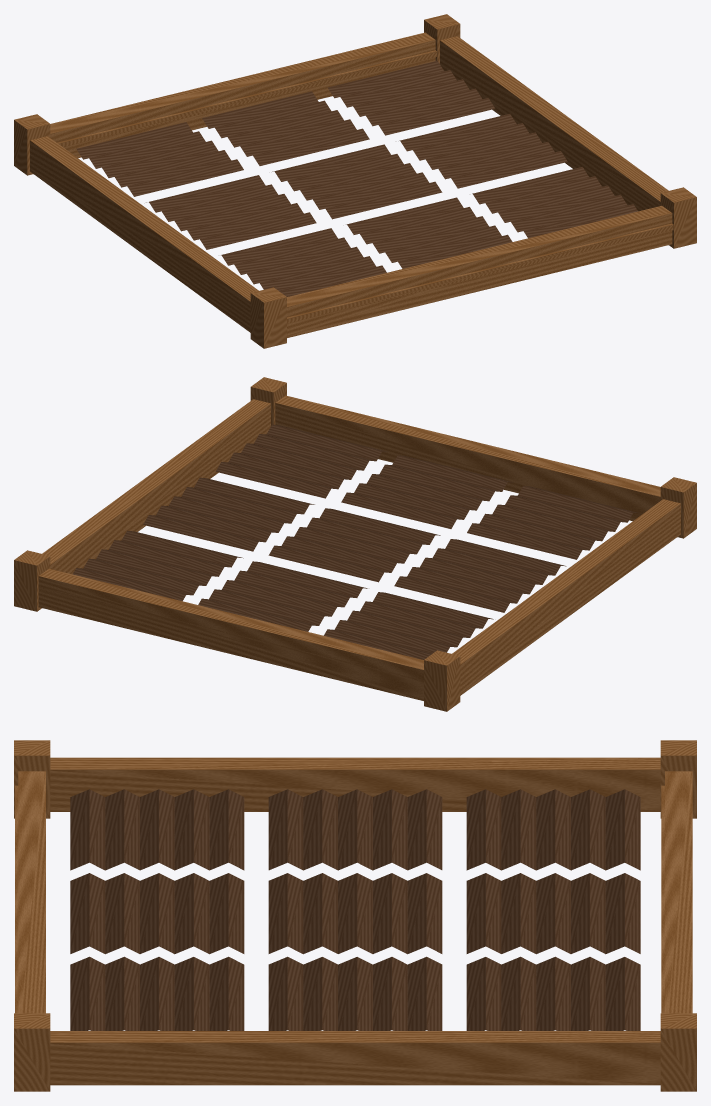
The model's file is bed.glb.
3 views of the same model, one above another, from view 1: azimuth 30°, elevation 25°; view 2: azimuth 150°, elevation 25°; view 3: azimuth 270°, elevation 25° (orthographic). The views are drawn at different scales.
Visible parts, largest first — view 1: bed-frame-soil; view 2: bed-frame-soil; view 3: bed-frame-soil.
Boxes of the visible parts, left/top/right/bottom form: bed-frame-soil: left=14, top=14, right=696, bottom=348; bed-frame-soil: left=14, top=377, right=696, bottom=711; bed-frame-soil: left=14, top=740, right=696, bottom=1091.
Size of the model in its own units: 3.93 by 0.4 by 3.93.
1 material, 1 textured.
